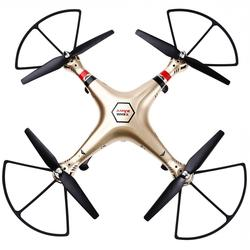drone: (2, 8, 247, 241)
